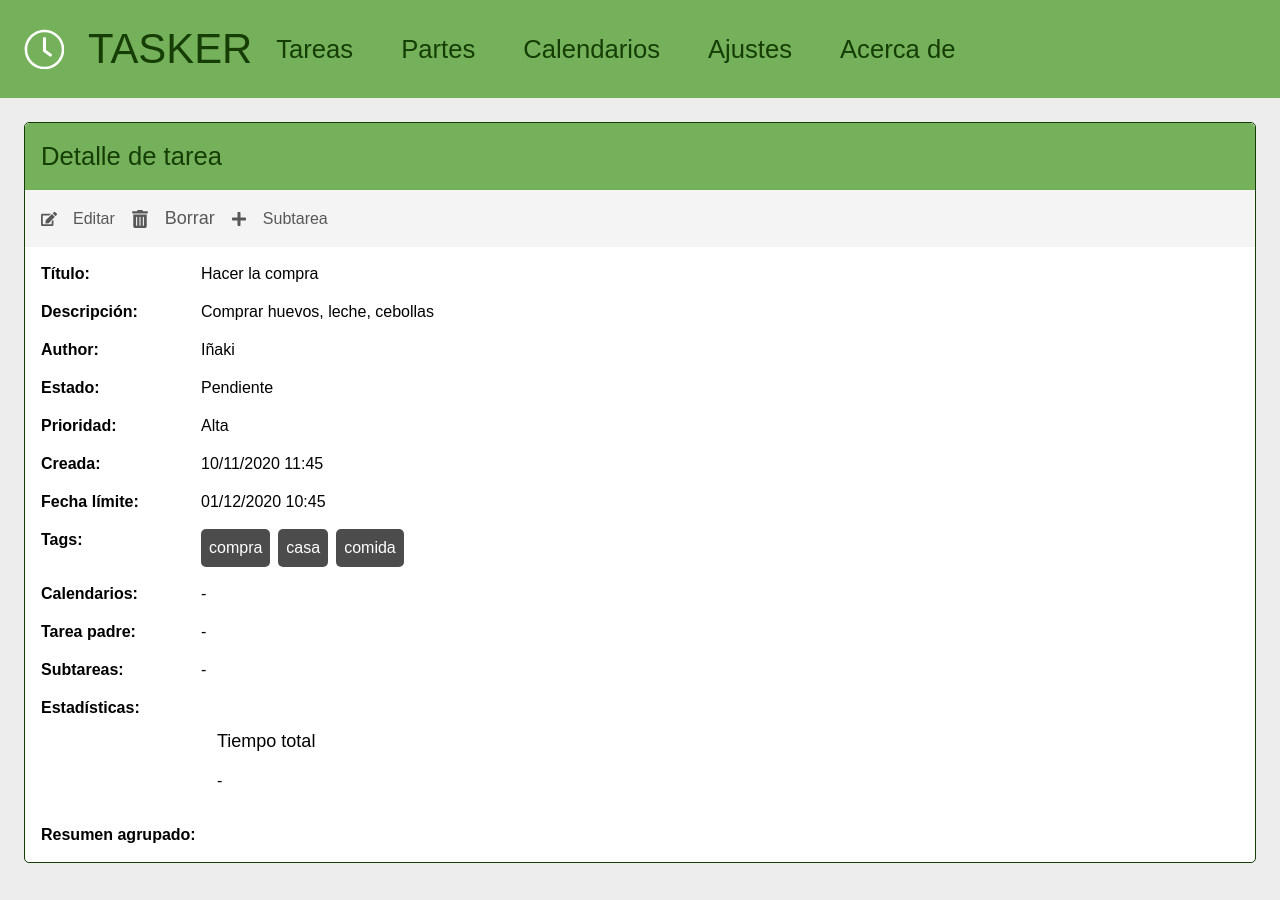
Detalle de tarea › Al pulsar 'Aceptar' en el diálogo de confirmación de la acción 'Borrar', se borra la tarea
Click the button labelled "Borrar": (173, 218) [123,198,223,239]
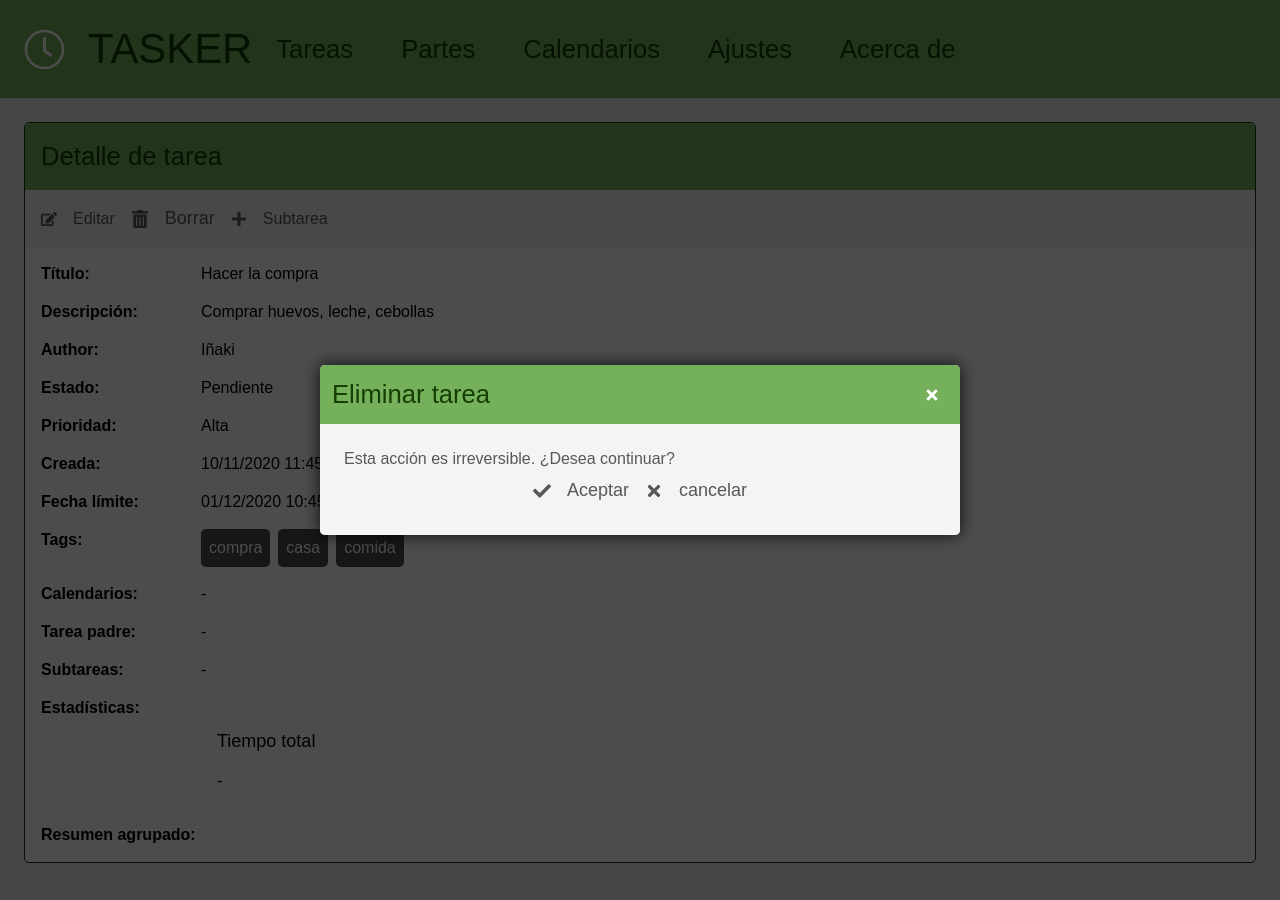
Click the button labelled "Aceptar": (581, 490) [525,470,637,511]
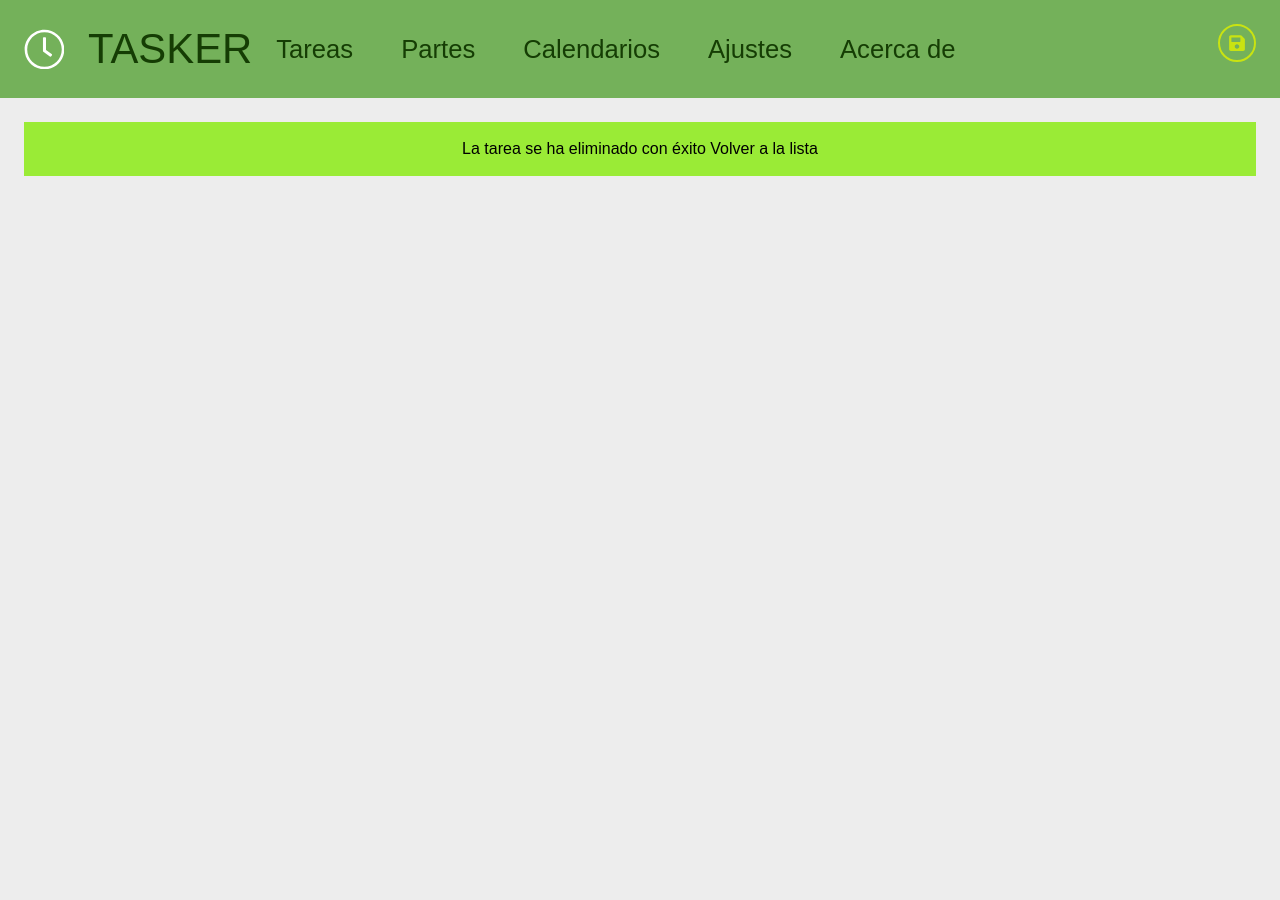
Check: the element named "success-message" shows "La tarea se ha eliminado con éxito", box [462,140,706,157]
